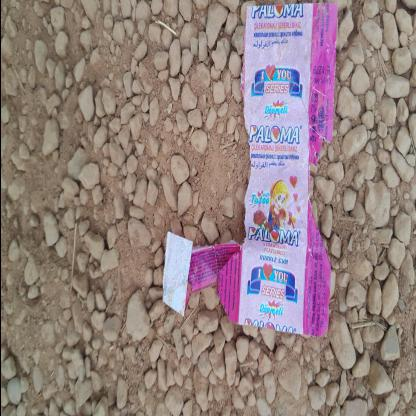kagit: (2, 78, 342, 257)
